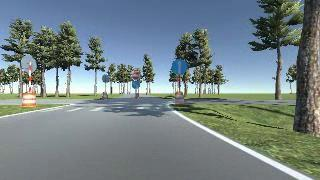go_ahead: (172, 60, 187, 74)
